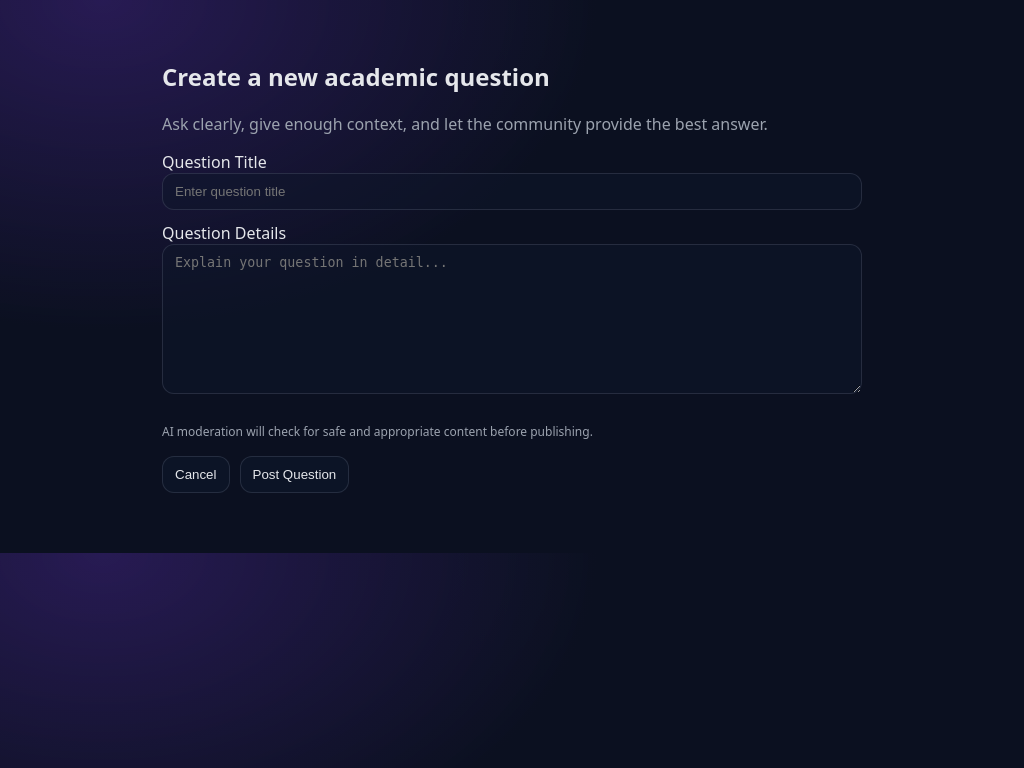
Scenario: CreatePost page › shows AI moderation block message for offensive post
Type "Bad content" into the field with placeholder "Enter question title" at coordinates (512, 191), box x1=162 y1=173 x2=862 y2=210
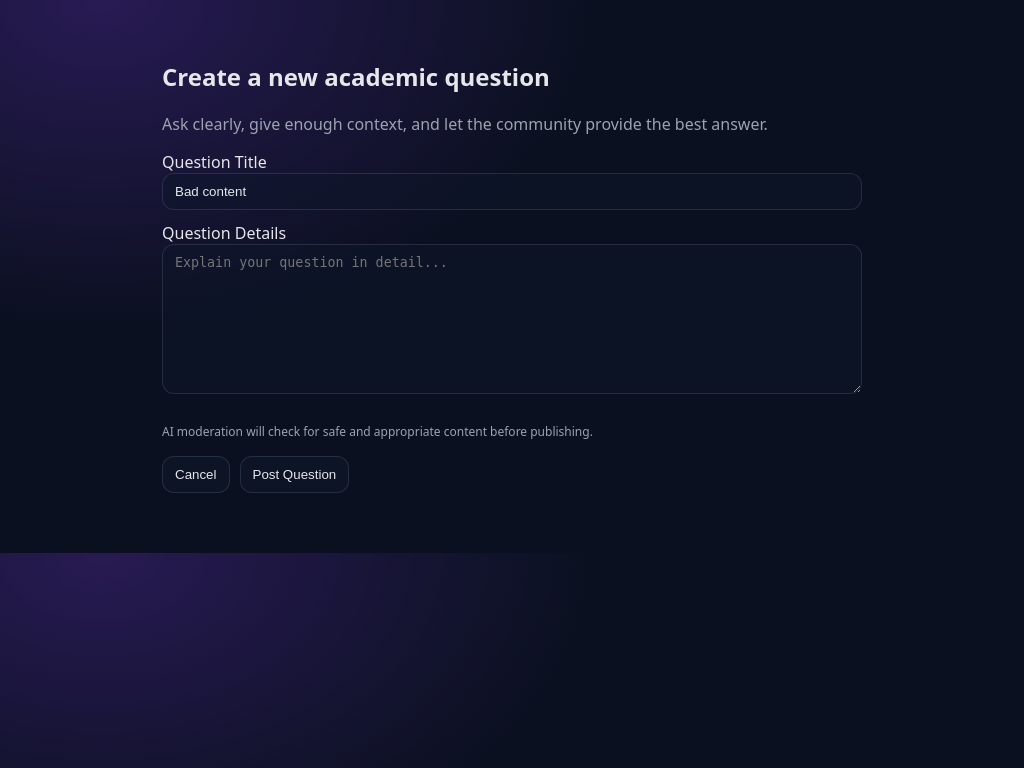
Type "This is offensive content that should be blocked." into the text box with placeholder "Explain your question in detail..." at coordinates (512, 319), box x1=162 y1=244 x2=862 y2=394
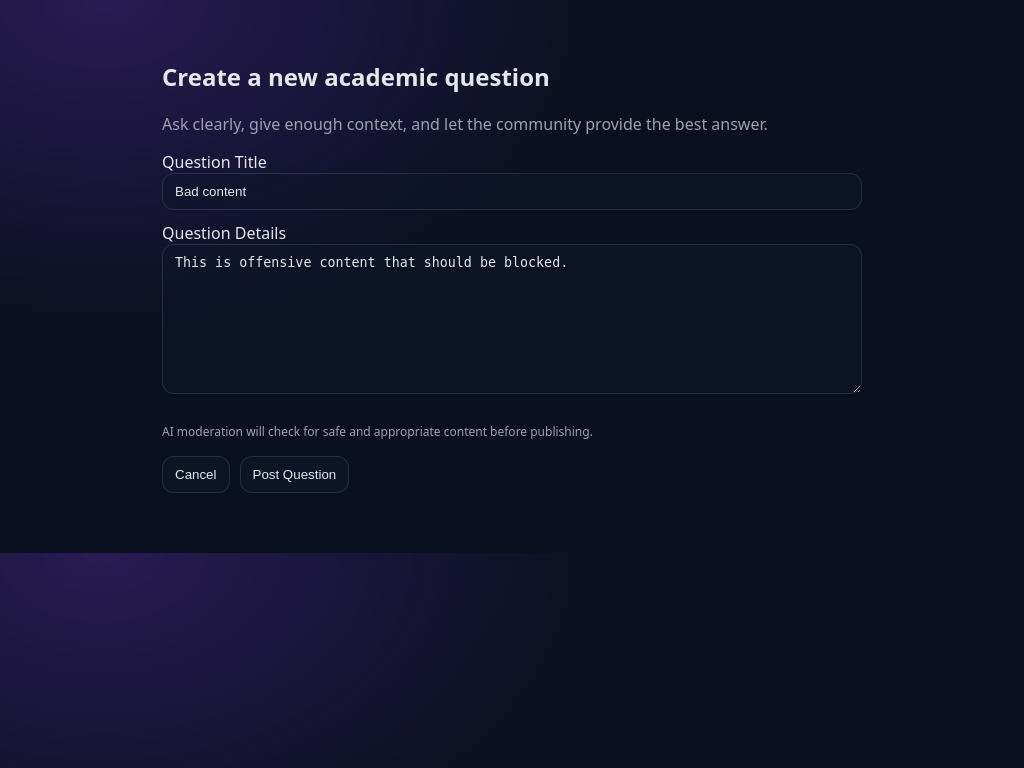
Click the button "Post Question" at coordinates (294, 474), box x1=240 y1=456 x2=349 y2=493
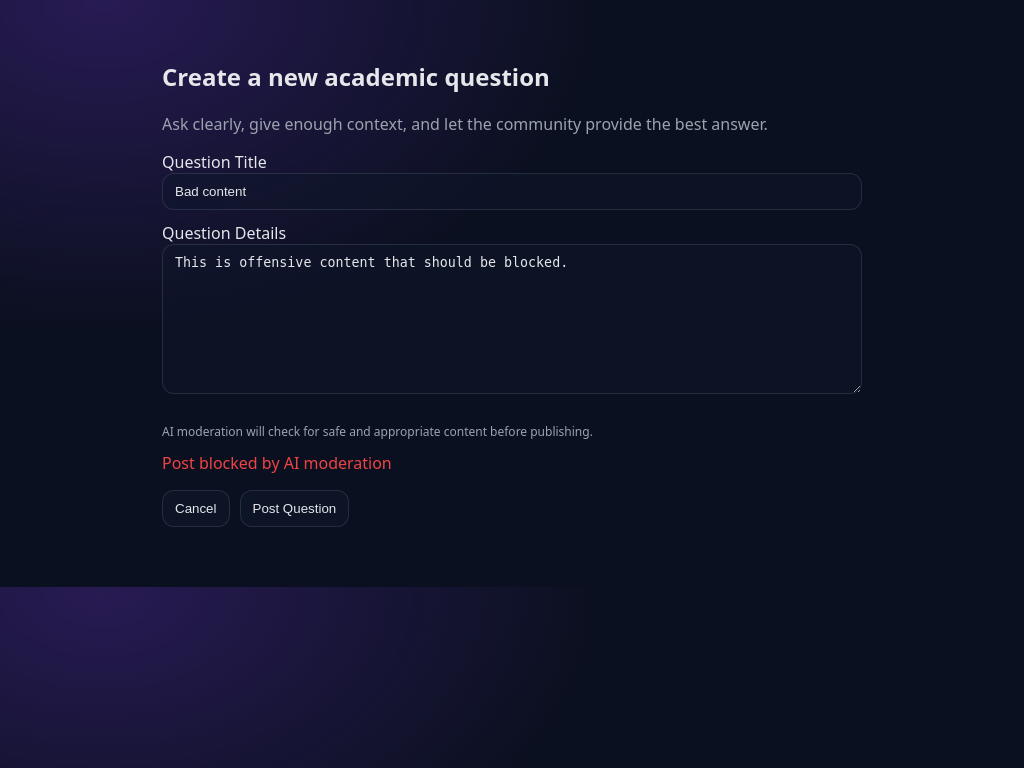
Expected: the text "Post blocked by AI moderation" is shown, x1=162 y1=452 x2=392 y2=474
